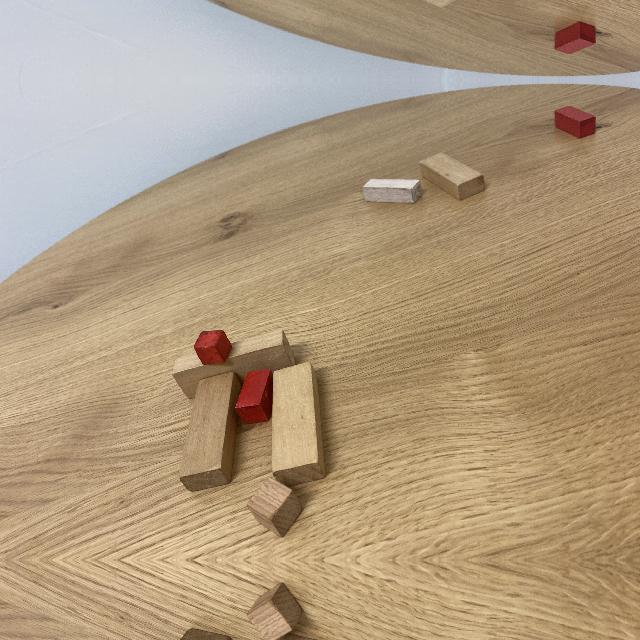block: (362, 179, 423, 203)
jenga: (172, 330, 296, 400), (178, 372, 243, 493), (272, 362, 327, 486), (247, 475, 303, 537), (420, 151, 486, 200), (247, 583, 303, 640)
red block: (233, 370, 273, 424), (555, 105, 596, 138), (555, 22, 596, 55)
red cube: (194, 330, 232, 365)
